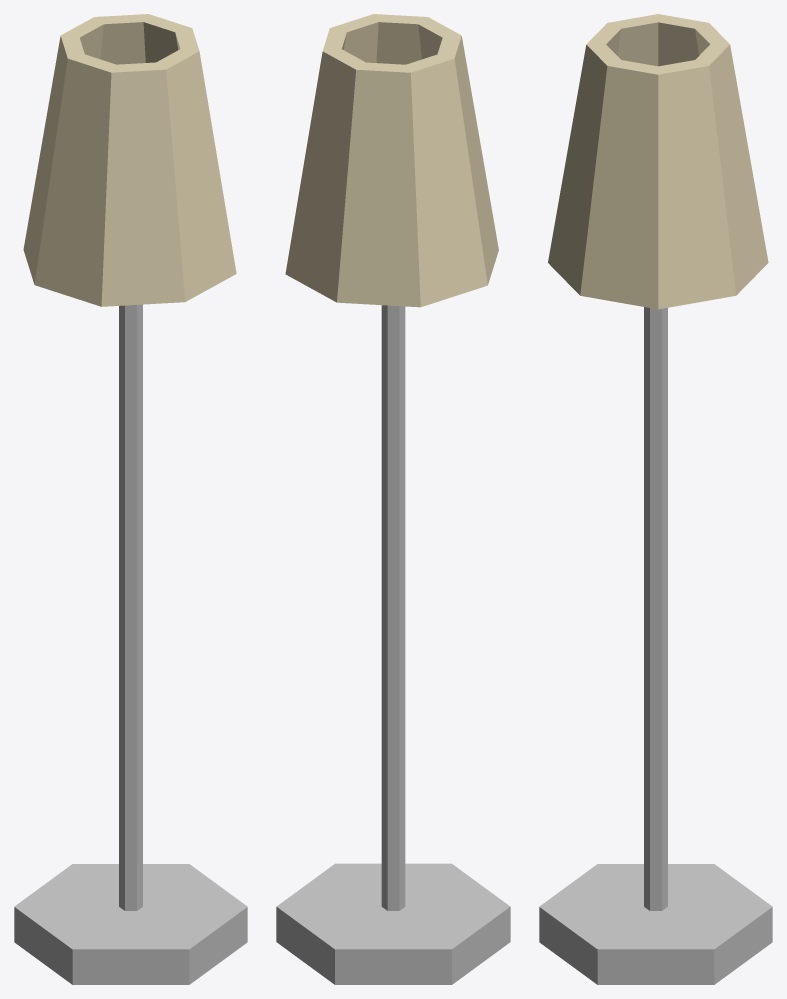
File: Lamp.glb
3 renders of one model, left to right at view 1: azimuth 30°, elevation 25°; view 2: azimuth 150°, elevation 25°; view 3: azimuth 270°, elevation 25°, orthographic.
Parts seen in each view (by area): view 1: Lamp; view 2: Lamp; view 3: Lamp.
Part boxes in pixels (box(x1,y1,x2,y2)): Lamp: box(14, 14, 247, 984); Lamp: box(276, 14, 510, 984); Lamp: box(539, 14, 772, 984).
Bounding box in the file's own units: 0.2313 × 1.04 × 0.2449.
